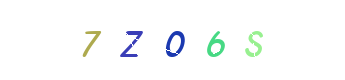0: (132, 0, 212, 80)
6: (175, 0, 255, 80)
7: (51, 0, 131, 80)
S: (185, 0, 265, 80)
Z: (115, 0, 195, 80)
